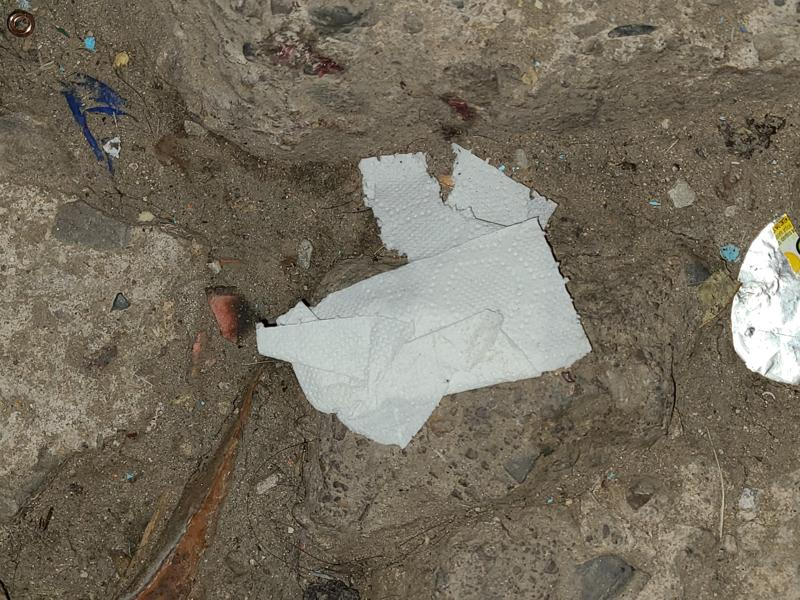papel: (246, 150, 592, 449)
